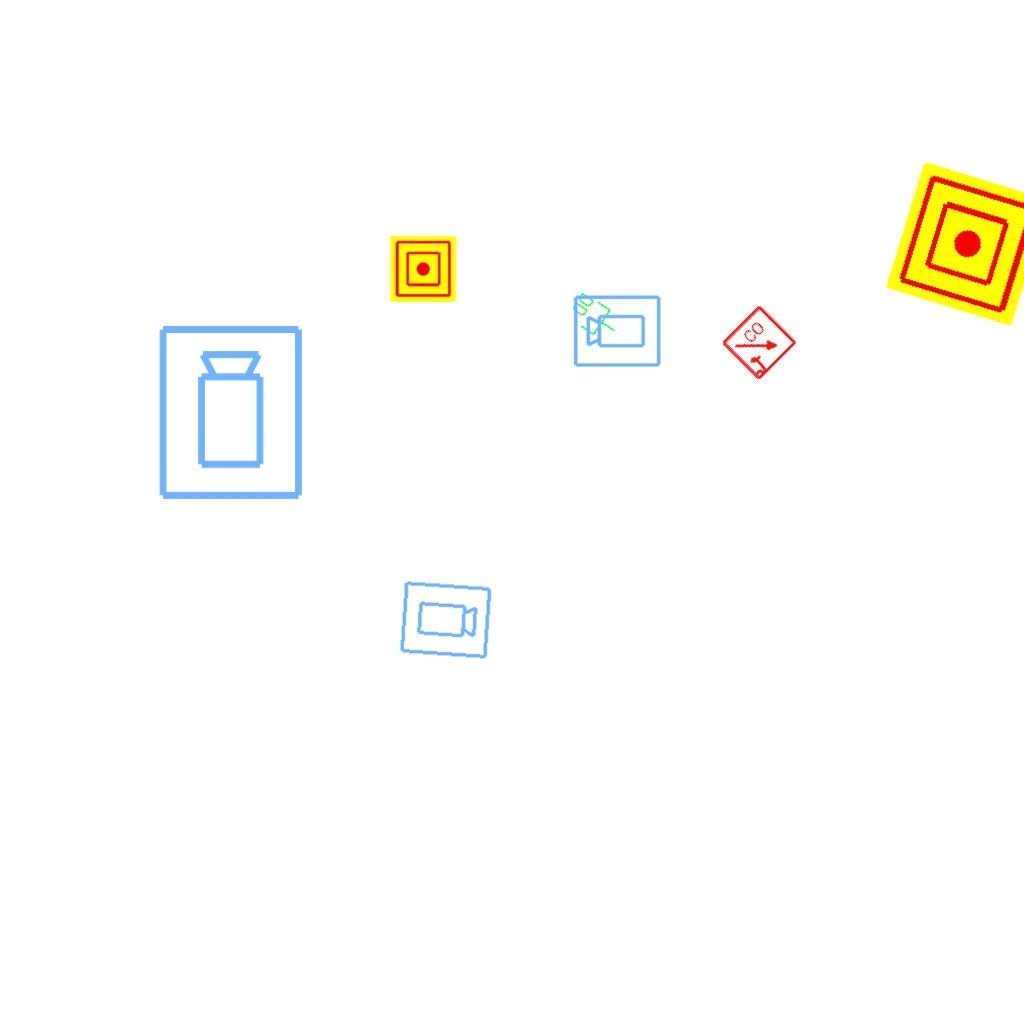Datenanschluss_zweifach: (563, 288, 626, 346)
KFO_Kamera_mit_Festobjektiv: (155, 322, 309, 504), (397, 578, 494, 663), (572, 292, 663, 369)
NAM-Nichtautomatischer_Melder: (885, 161, 1024, 327), (390, 236, 456, 302)
ROA_Rauchmelder_optisch_mit_Signalgeber_(Sockelsirene): (720, 303, 800, 383)
